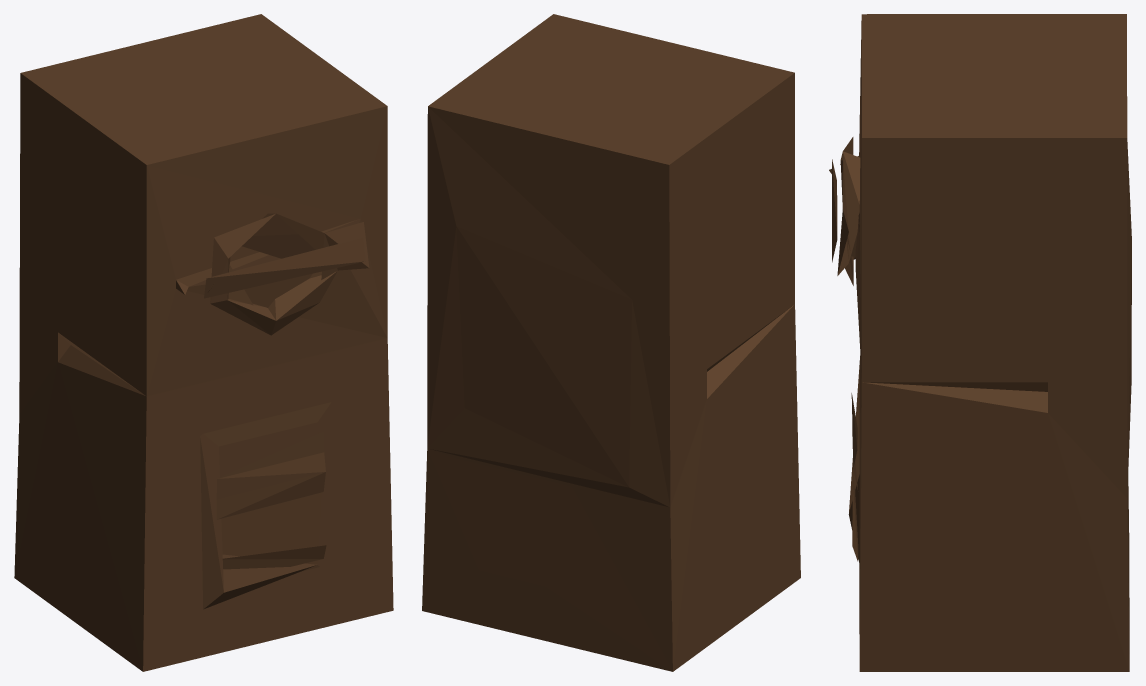
File: laundry-machine.lod2.glb
3 renders of one model, left to right at view 1: azimuth 30°, elevation 25°; view 2: azimuth 150°, elevation 25°; view 3: azimuth 270°, elevation 25°, orthographic. The views are drawn at different scales.
Parts seen in each view (by area): view 1: Latch_LP_UV grid_0; view 2: Latch_LP_UV grid_0; view 3: Latch_LP_UV grid_0.
Boxes of the visible parts, x1,y1,x2,y2 form: Latch_LP_UV grid_0: (14, 14, 393, 671); Latch_LP_UV grid_0: (422, 14, 800, 671); Latch_LP_UV grid_0: (829, 14, 1131, 671).
Bounding box in the file's own units: 1.04 × 2 × 1.03.
